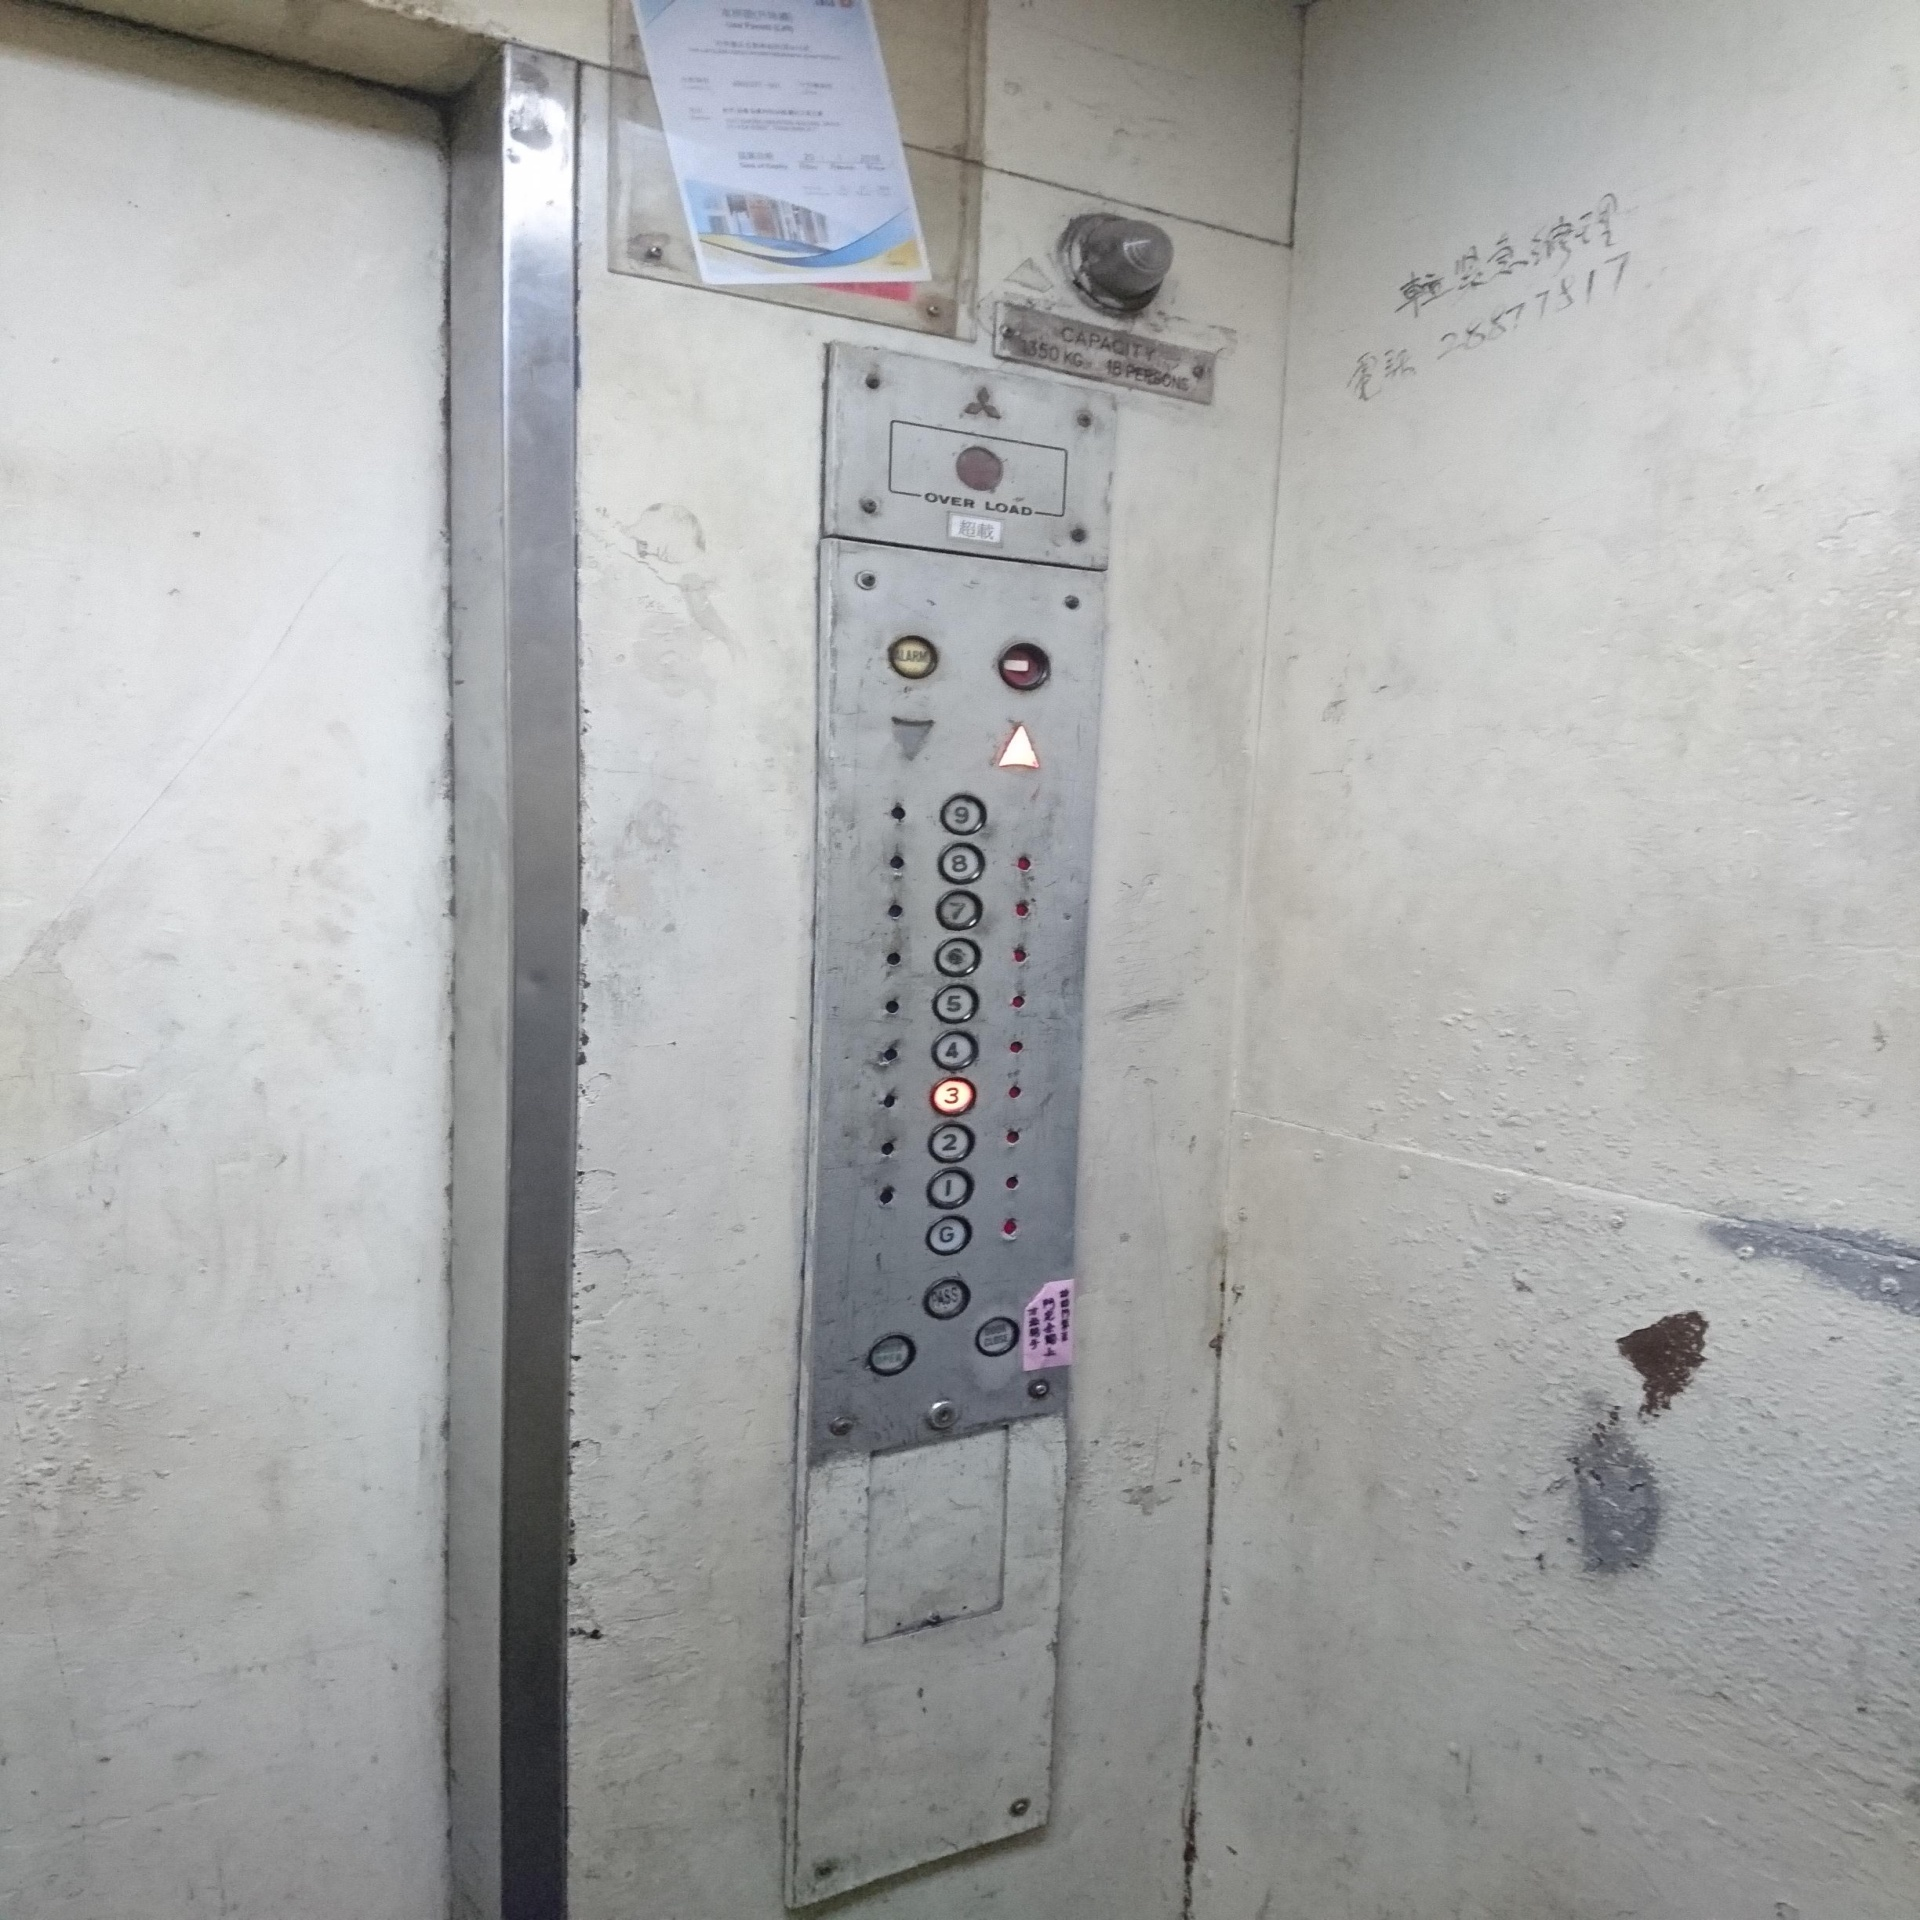1: (925, 1166, 978, 1211)
2: (927, 1120, 979, 1166)
3: (927, 1073, 979, 1118)
4: (928, 1029, 983, 1073)
5: (930, 981, 983, 1027)
6: (932, 934, 986, 979)
7: (934, 884, 986, 932)
8: (935, 840, 988, 886)
9: (937, 789, 990, 837)
G: (921, 1211, 976, 1257)
text: (884, 631, 941, 680), (867, 1333, 920, 1378), (971, 1315, 1023, 1361), (920, 1276, 972, 1320)
unknown: (997, 638, 1051, 693)
